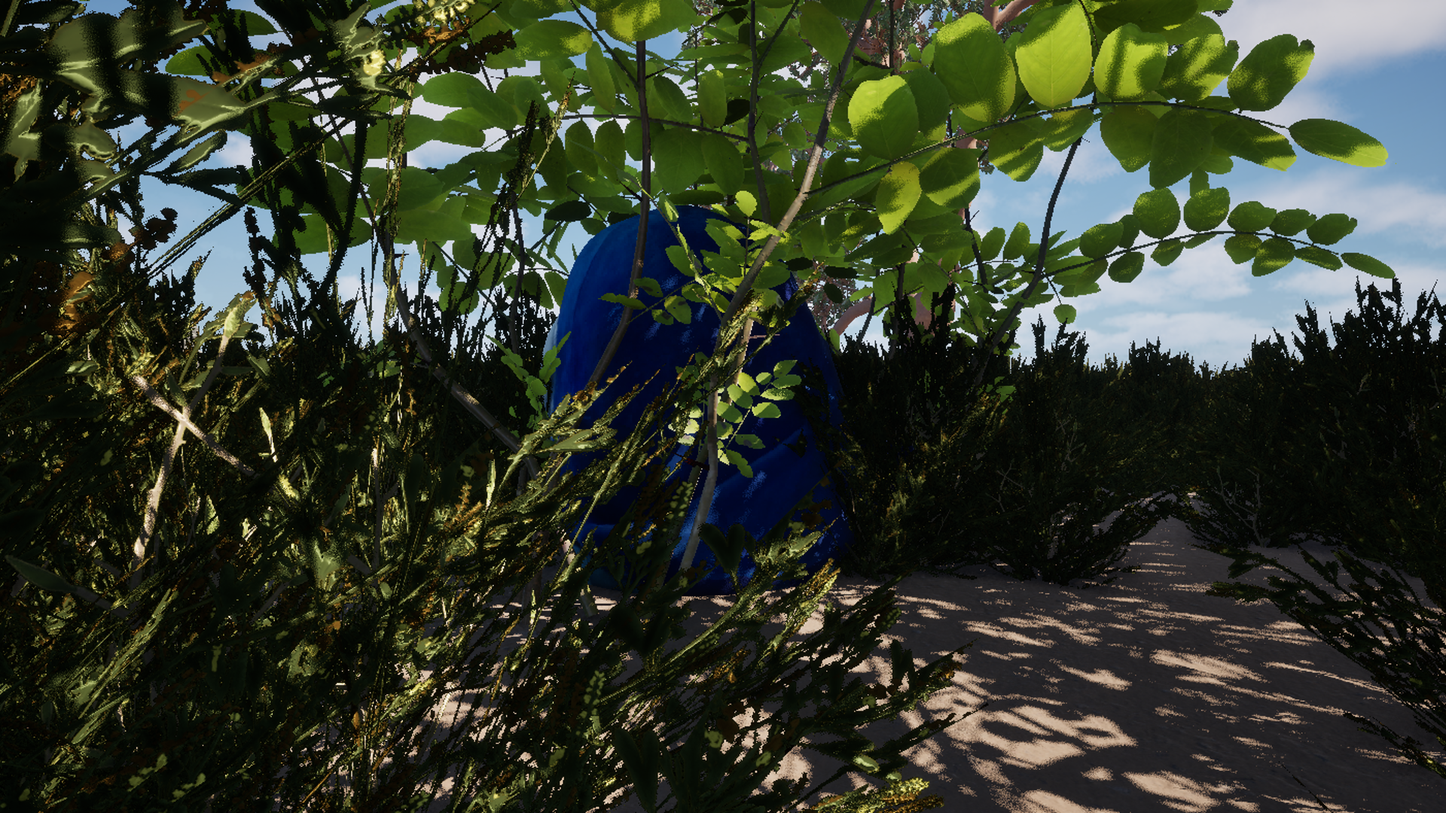Piplup: (348, 0, 970, 813)
